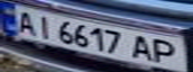1: (87, 25, 106, 52)
6: (54, 18, 75, 45), (69, 23, 90, 48)
7: (103, 27, 127, 55)
A: (127, 34, 157, 62), (12, 8, 39, 35)
I: (30, 12, 57, 39)
P: (148, 37, 184, 65)
